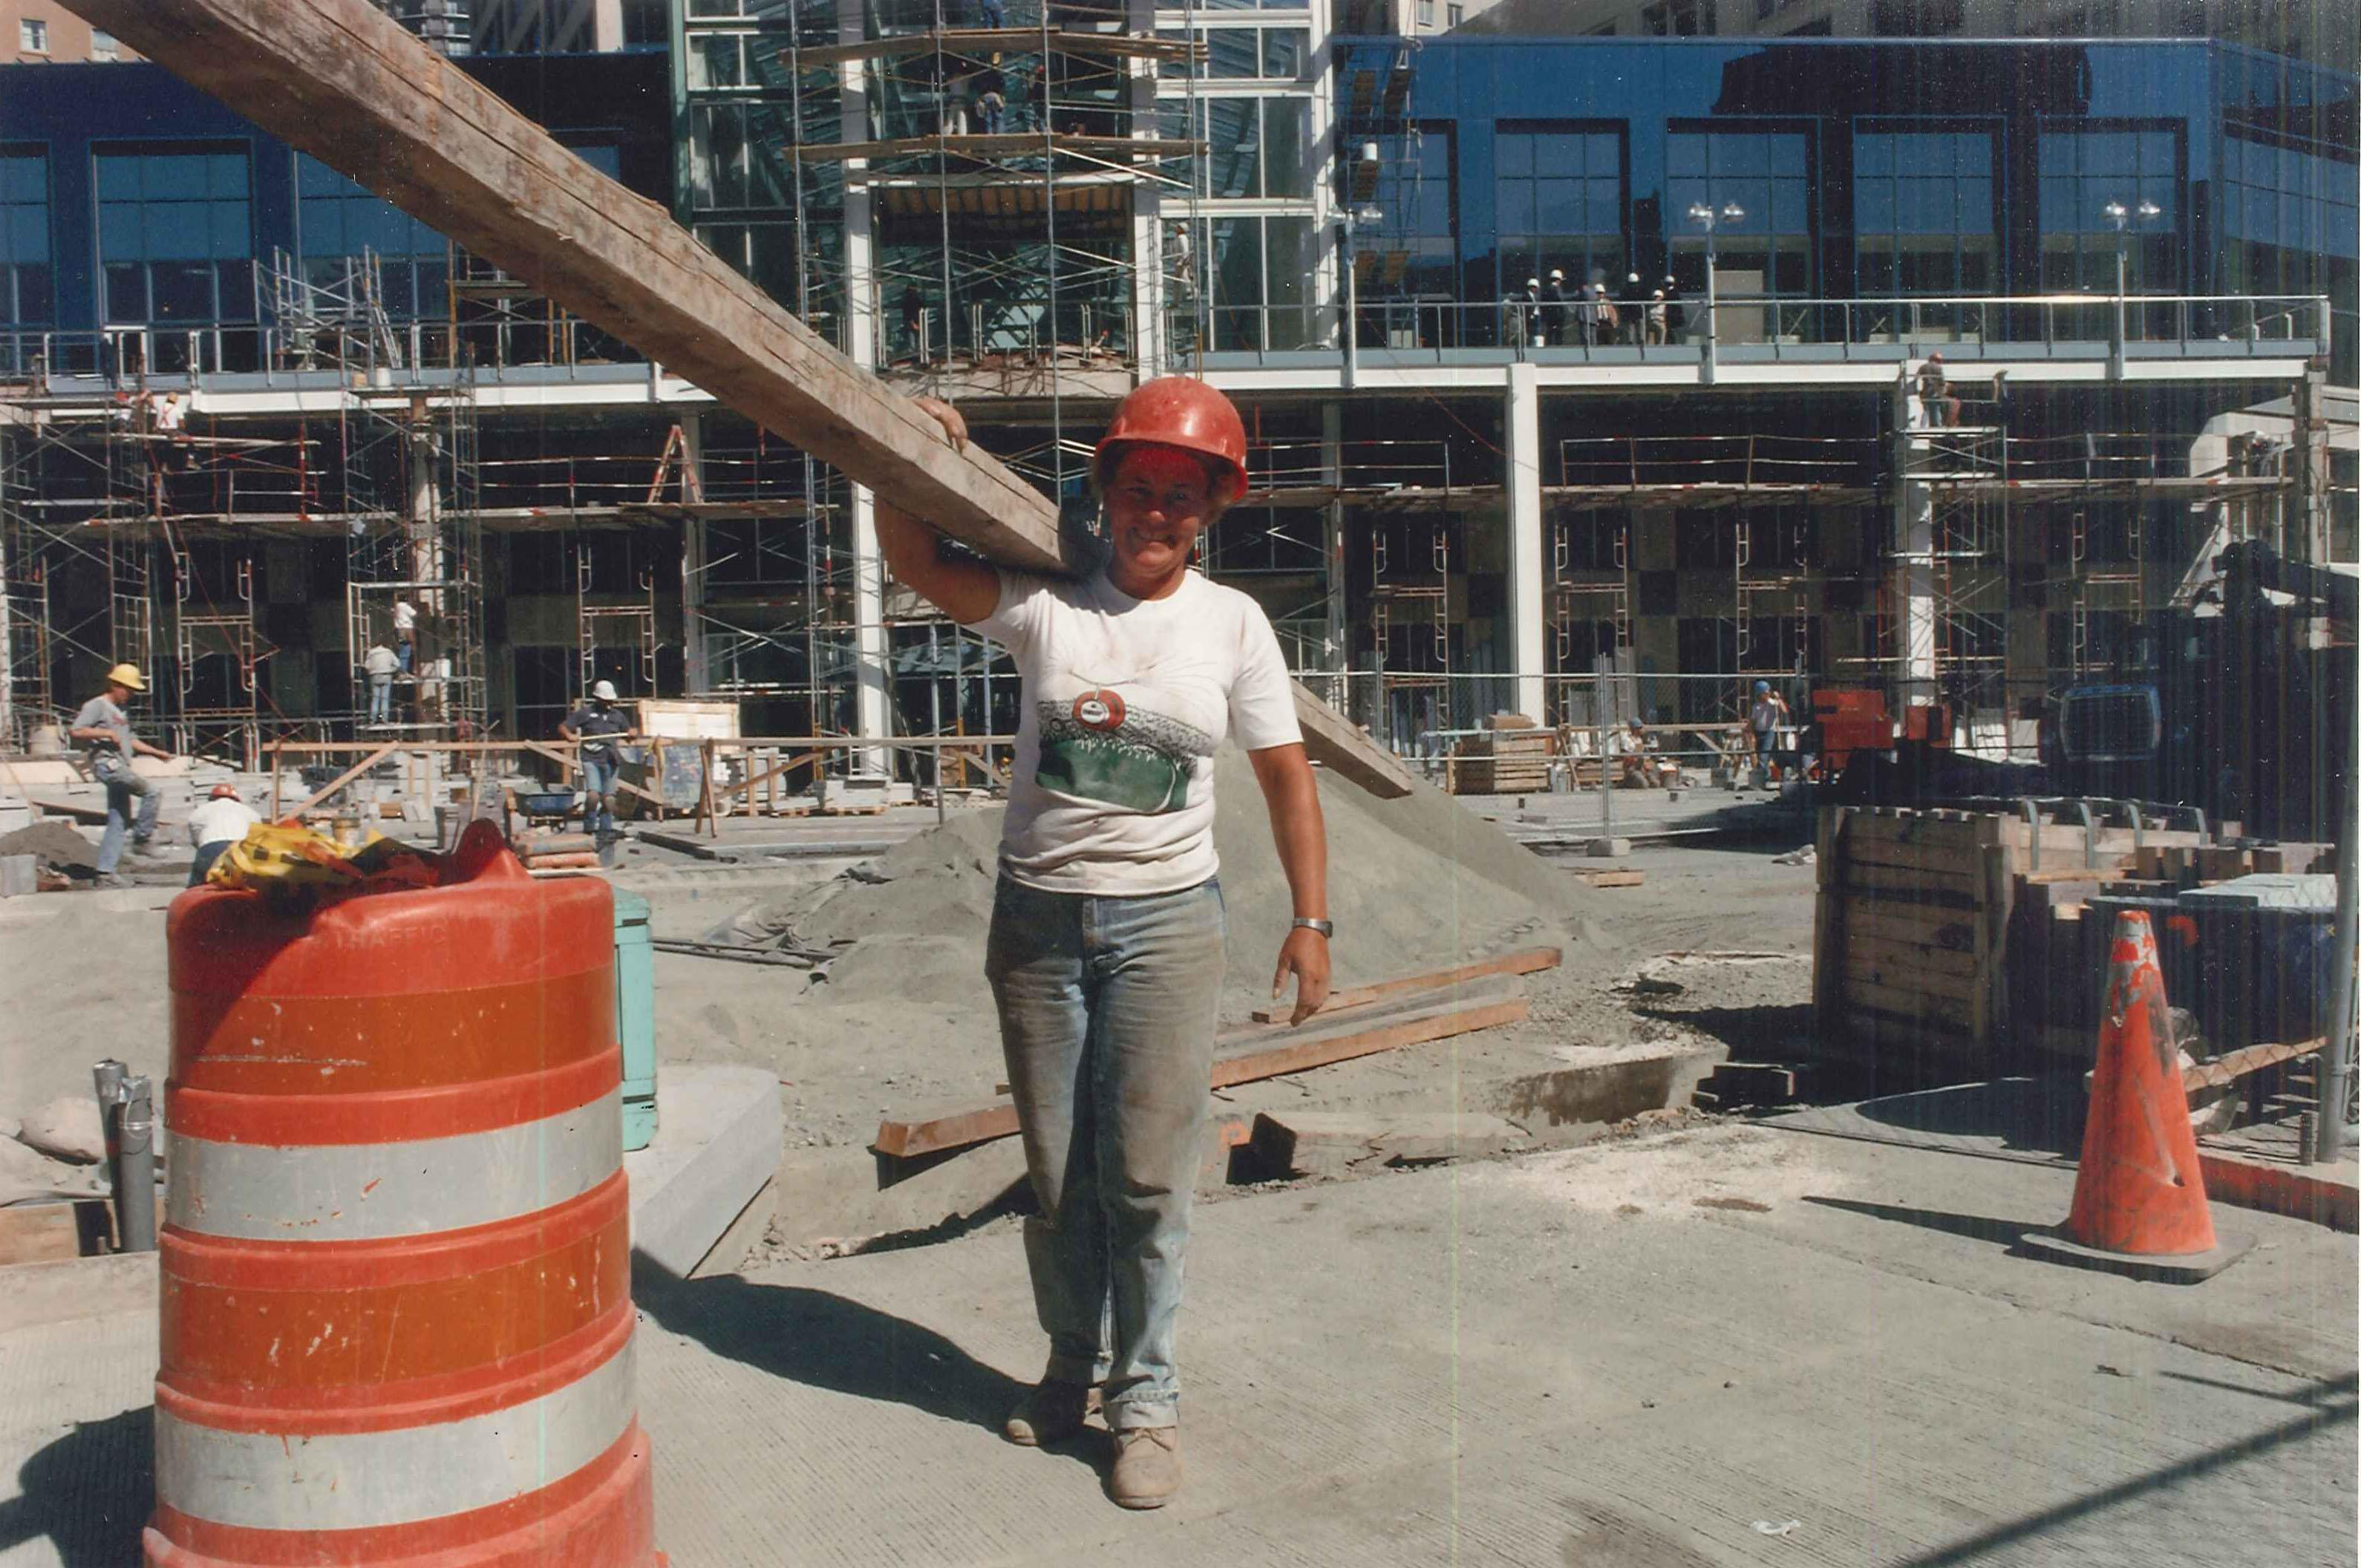helmet: (1097, 376, 1264, 495), (107, 661, 147, 697), (590, 677, 621, 710), (1755, 677, 1776, 703)
